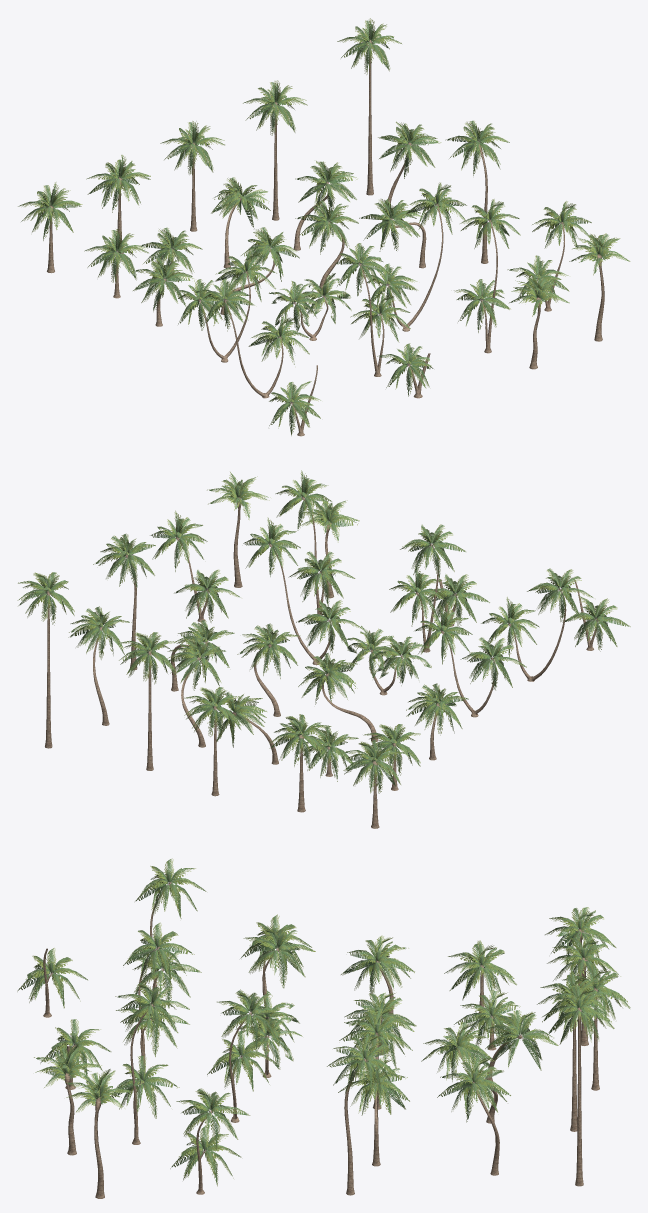
File: dxb-palms.glb
3 views of the same model, one above another, from view 1: azimuth 30°, elevation 25°; view 2: azimuth 150°, elevation 25°; view 3: azimuth 270°, elevation 25° (orthographic). The views are drawn at different scales.
Visible parts, largest first — view 1: M_Palm_P2_31_Leaf_0, M_Palm_P2_31_Trunk_0; view 2: M_Palm_P2_31_Leaf_0, M_Palm_P2_31_Trunk_0; view 3: M_Palm_P2_31_Leaf_0, M_Palm_P2_31_Trunk_0.
Boxes of the visible parts, x1=… form: M_Palm_P2_31_Leaf_0: x1=18, y1=18, x2=630, y2=435; M_Palm_P2_31_Trunk_0: x1=47, y1=40, x2=604, y2=436; M_Palm_P2_31_Leaf_0: x1=17, y1=470, x2=630, y2=793; M_Palm_P2_31_Trunk_0: x1=45, y1=497, x2=597, y2=828; M_Palm_P2_31_Leaf_0: x1=17, y1=858, x2=630, y2=1186; M_Palm_P2_31_Trunk_0: x1=43, y1=882, x2=599, y2=1198.
Bounding box in the file's own units: 110 × 43.42 × 123.
Materials: 4 (2 with a texture image).
